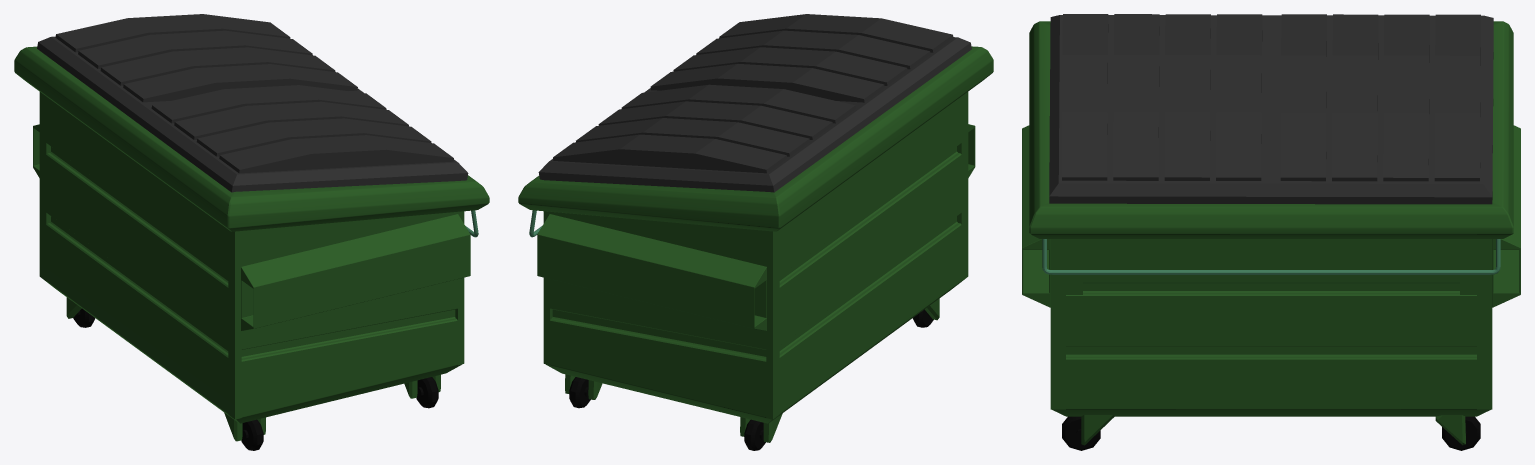
Rendered from Dumpster.fbx.
3 renders of one model, left to right at view 1: azimuth 30°, elevation 25°; view 2: azimuth 150°, elevation 25°; view 3: azimuth 270°, elevation 25°, orthographic. The views are drawn at different scales.
Visible parts, largest first — view 1: Dumpster; view 2: Dumpster; view 3: Dumpster.
Part boxes in pixels (box(x1,y1,x2,y2)): Dumpster: box(14, 14, 489, 450); Dumpster: box(518, 14, 993, 450); Dumpster: box(1022, 14, 1520, 450).
Size of the model in its own units: 1.4 by 1.48 by 2.04.
